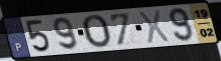5: (24, 18, 52, 54)
7: (109, 11, 132, 48)
9: (167, 6, 196, 43), (51, 17, 81, 52)
O: (80, 13, 113, 50)
X: (137, 8, 171, 45)
